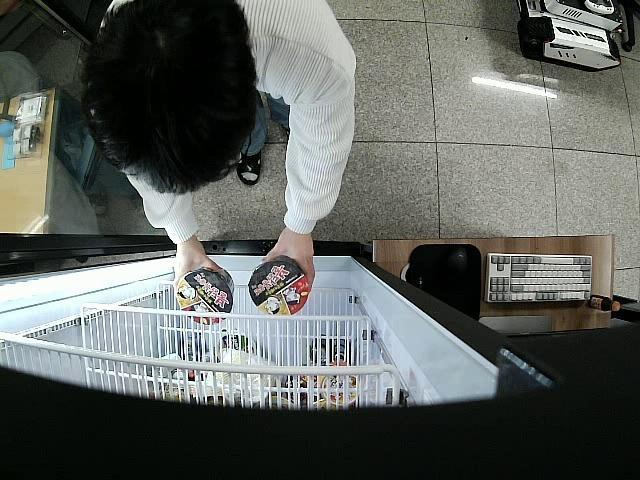07_buldak_L: (248, 253, 310, 316), (178, 268, 235, 326)
